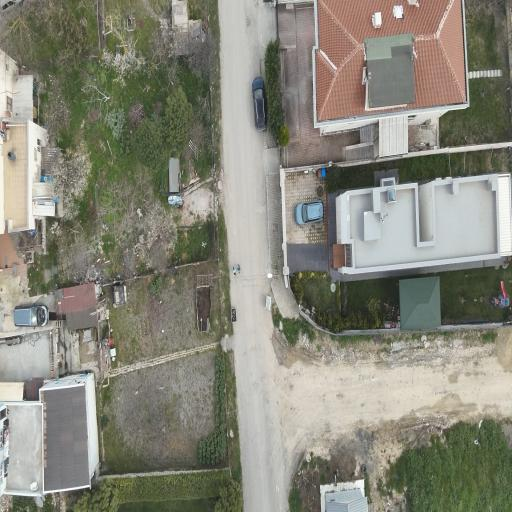car: (252, 77, 267, 131), (13, 304, 47, 326), (295, 201, 324, 225)
person: (236, 264, 239, 273), (232, 266, 235, 275)
